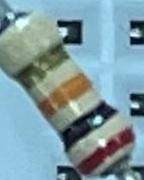Black: (59, 99, 121, 155)
Orange: (36, 71, 92, 118)
Red: (74, 126, 134, 179)
Side-Gold: (13, 42, 70, 92)
